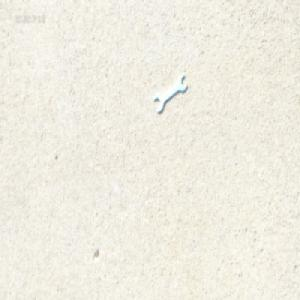Wrench: (154, 74, 187, 113)
